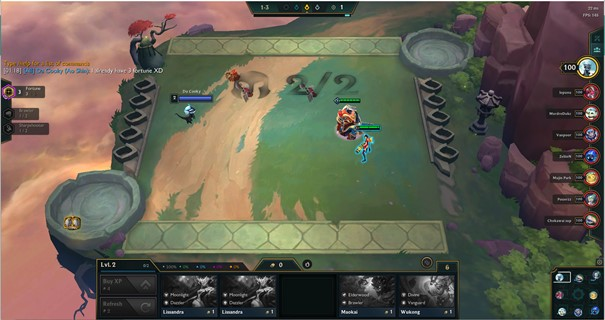1star_jinx: (350, 123, 384, 167)
2star_tahmkench: (331, 95, 366, 142)
2star_tahmkench_chosen: (329, 93, 366, 142)
trait_brawler1: (1, 105, 42, 121)
trait_fortune3: (1, 82, 49, 101)
trait_fortune_chosen: (1, 82, 18, 101)
trait_sharpshooter1: (1, 120, 52, 136)
